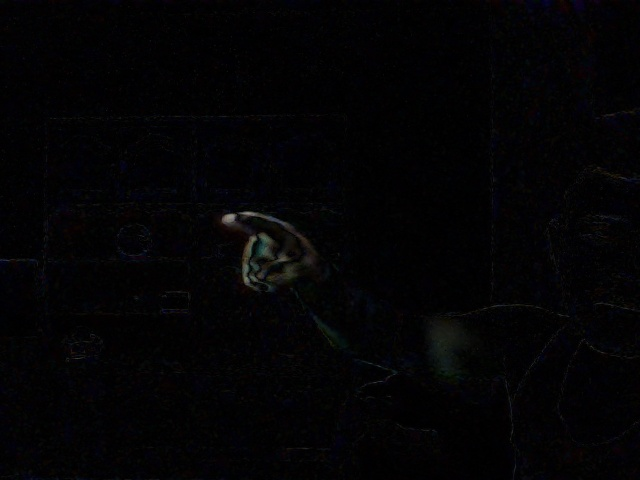hand_po: (217, 194, 321, 304)
